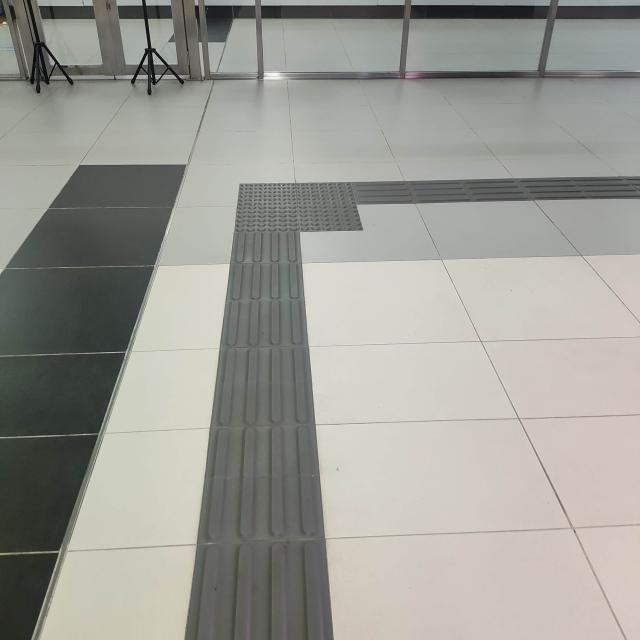kanan: (216, 157, 456, 254)
